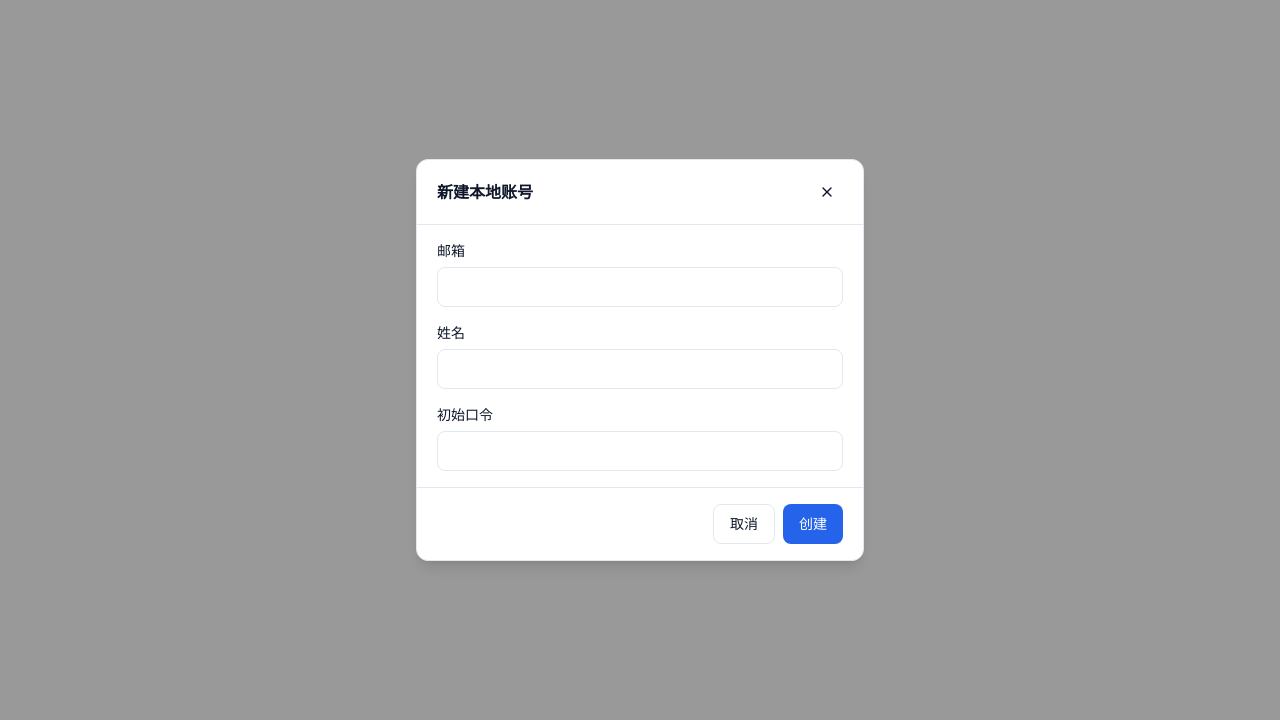
Scenario: CreateMemberDialog › echoes a duplicate account at the email field and keeps the dialog open
Type "new@acme.com" into the field labelled "邮箱" at [640, 287], box [437,267,843,307]
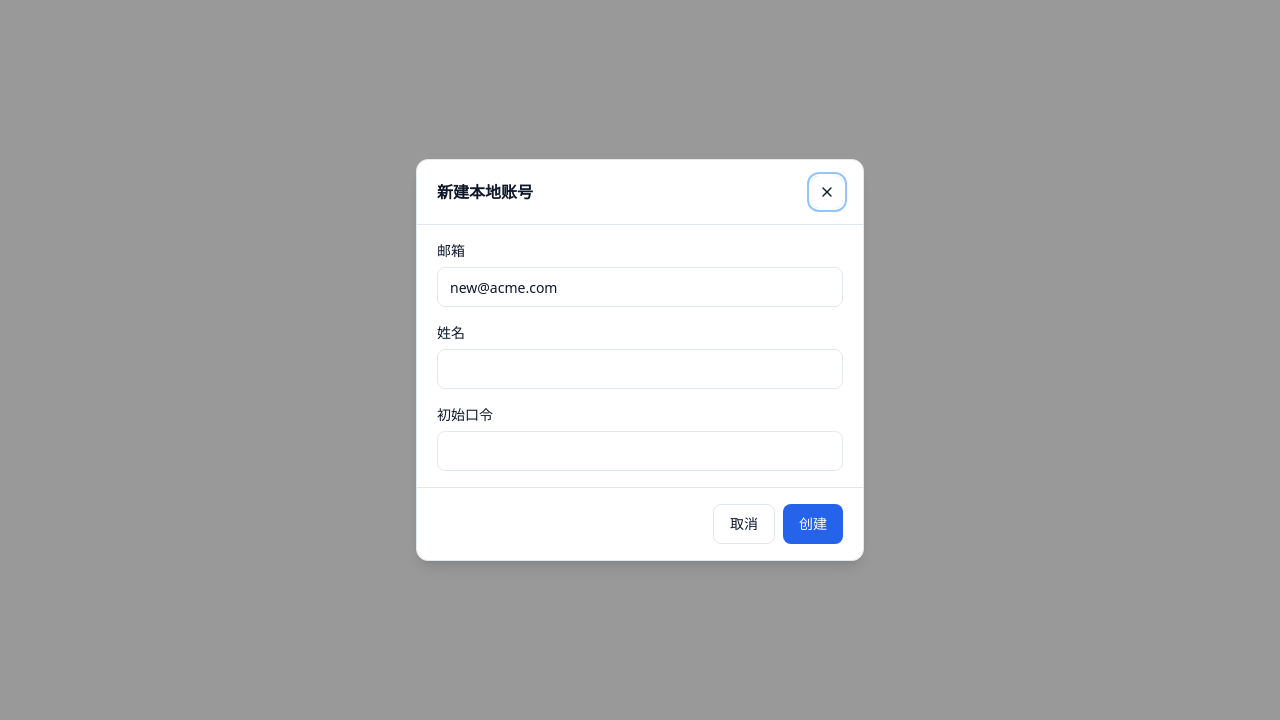
Type "New" into the field labelled "姓名" at [640, 369], box [437,349,843,389]
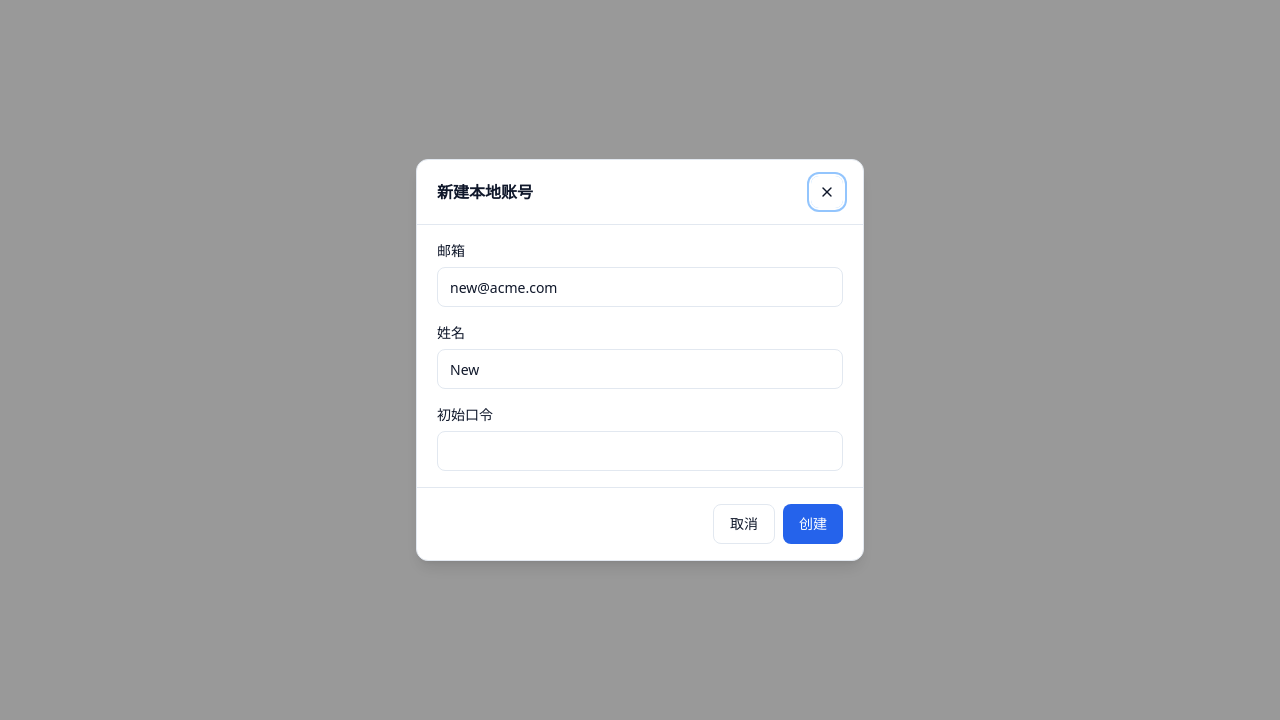
Type "Initial-Pass-1" into the password field labelled "初始口令" at [640, 451], box [437,431,843,471]
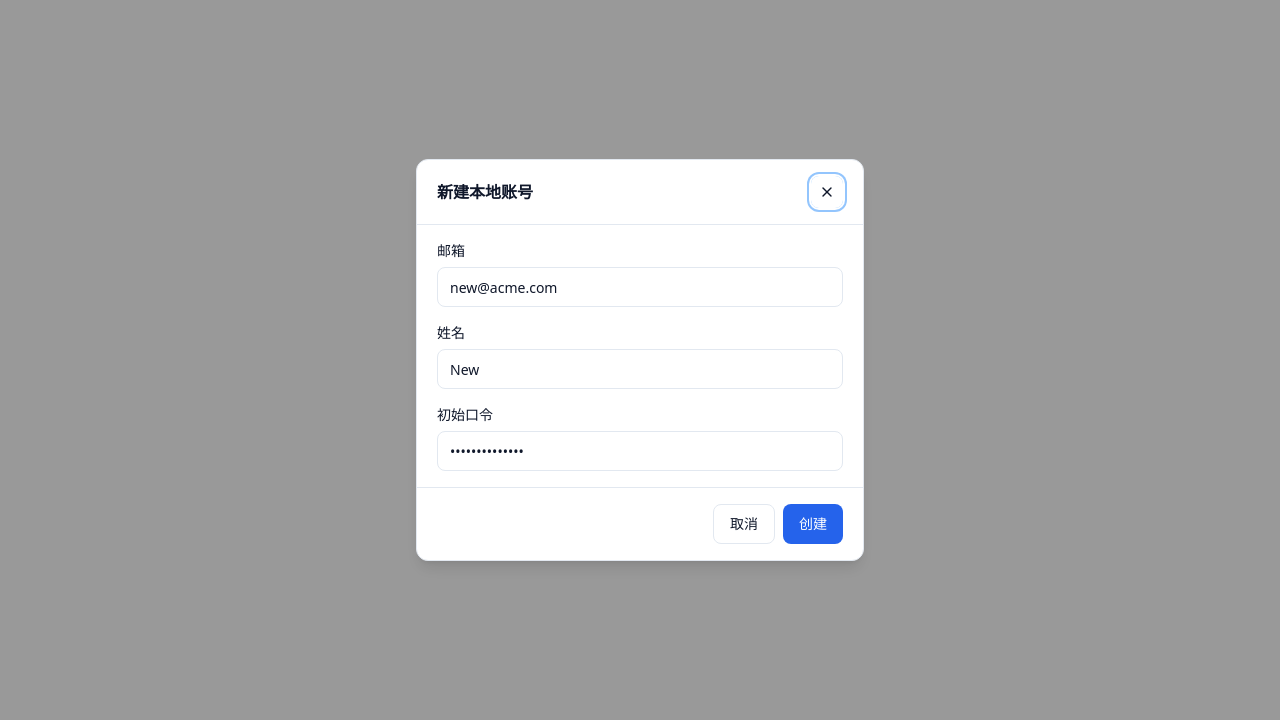
Click the button "创建" at [813, 524], box [783,504,843,544]
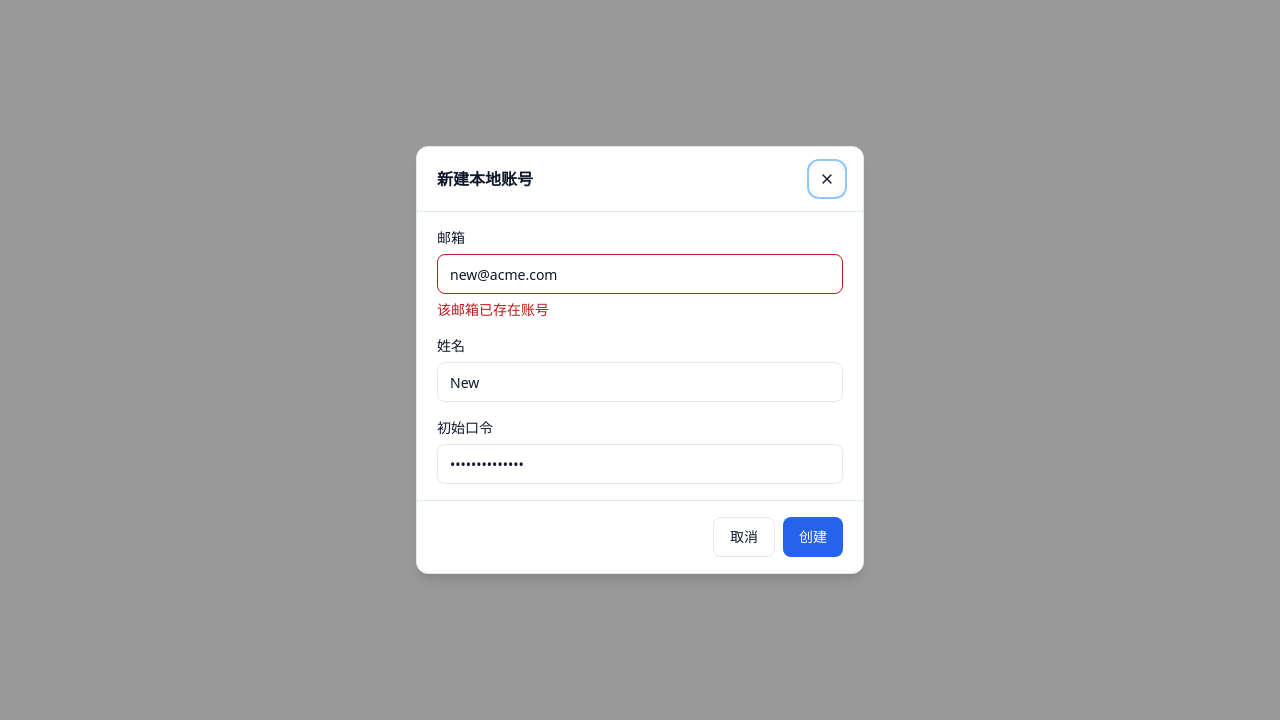
Now the text "该邮箱已存在账号" is shown, box [437,300,549,319]
